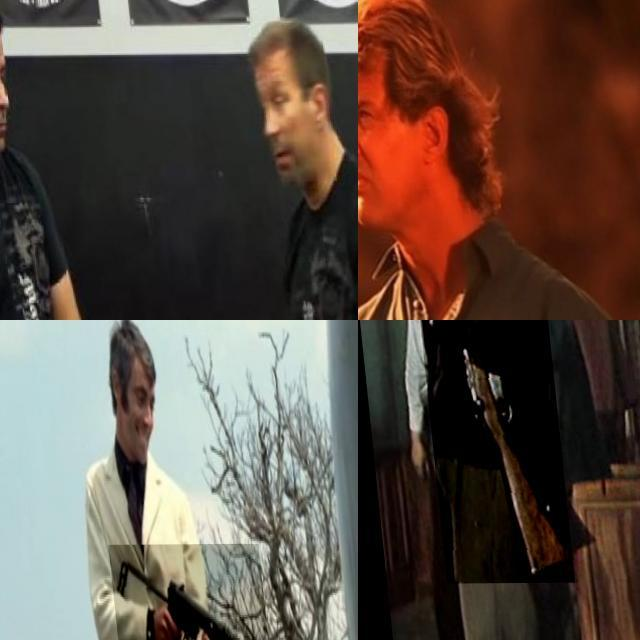gun-knife-thesis - v11 Yolov5 augmented: (397, 320, 563, 583), (102, 544, 274, 640)
